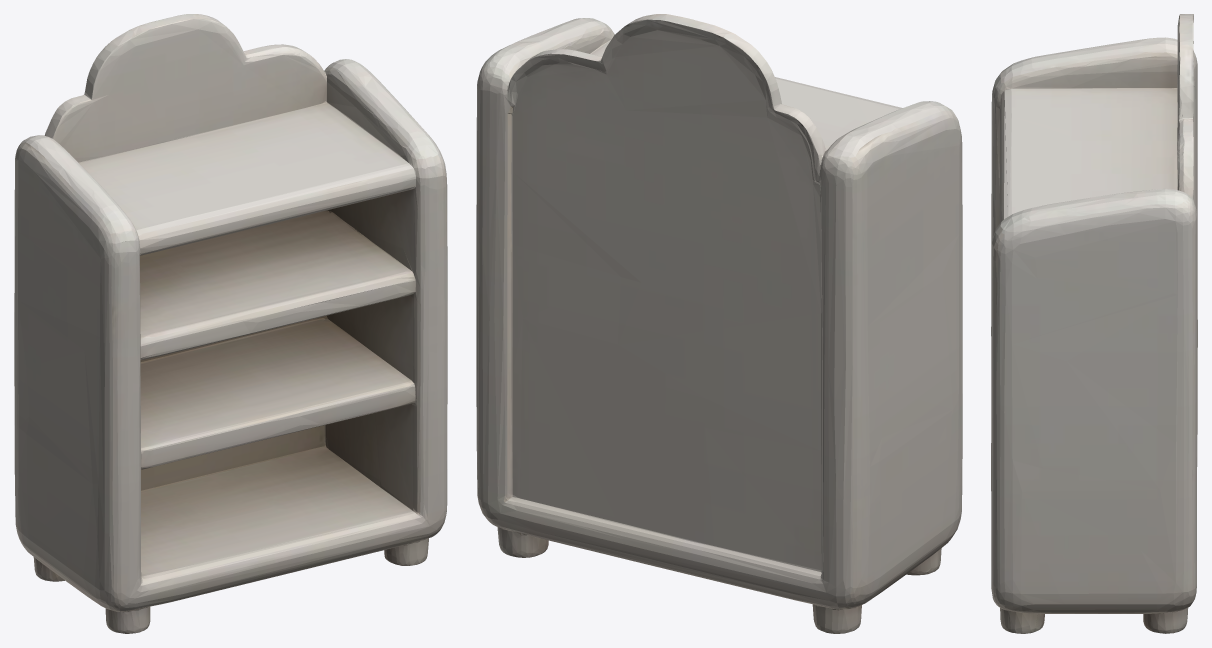
Rendered from bookshelf.glb.
The picture shows the model from 3 angles, left to right: view 1: azimuth 30°, elevation 25°; view 2: azimuth 150°, elevation 25°; view 3: azimuth 270°, elevation 25°; orthographic projection. The views are drawn at different scales.
Parts seen in each view (by area): view 1: geometry_0; view 2: geometry_0; view 3: geometry_0.
Part boxes in pixels (bbox=[...]): geometry_0: bbox=[14, 14, 447, 633]; geometry_0: bbox=[476, 14, 962, 633]; geometry_0: bbox=[991, 14, 1197, 633].
Bounding box in the file's own units: 0.7034 × 0.9996 × 0.3614.
Materials: 1 (1 with a texture image).
